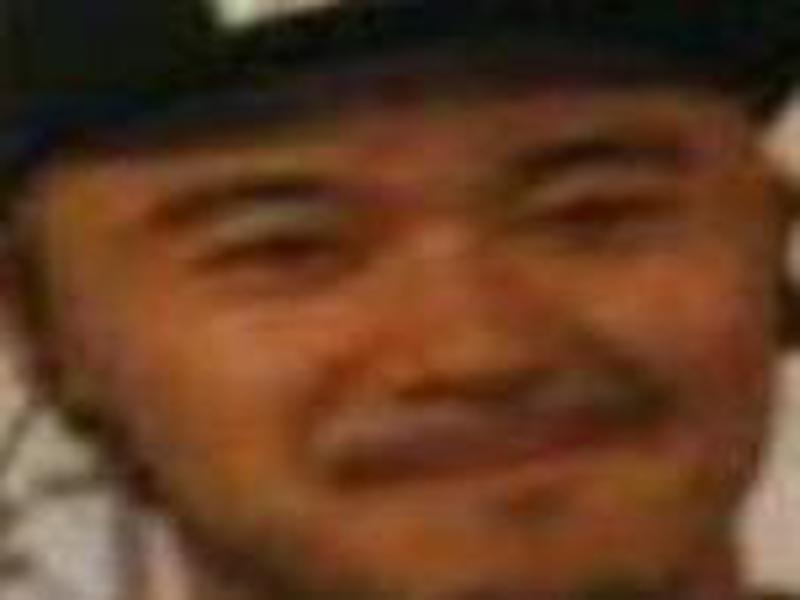without_mask: (27, 93, 780, 589)
